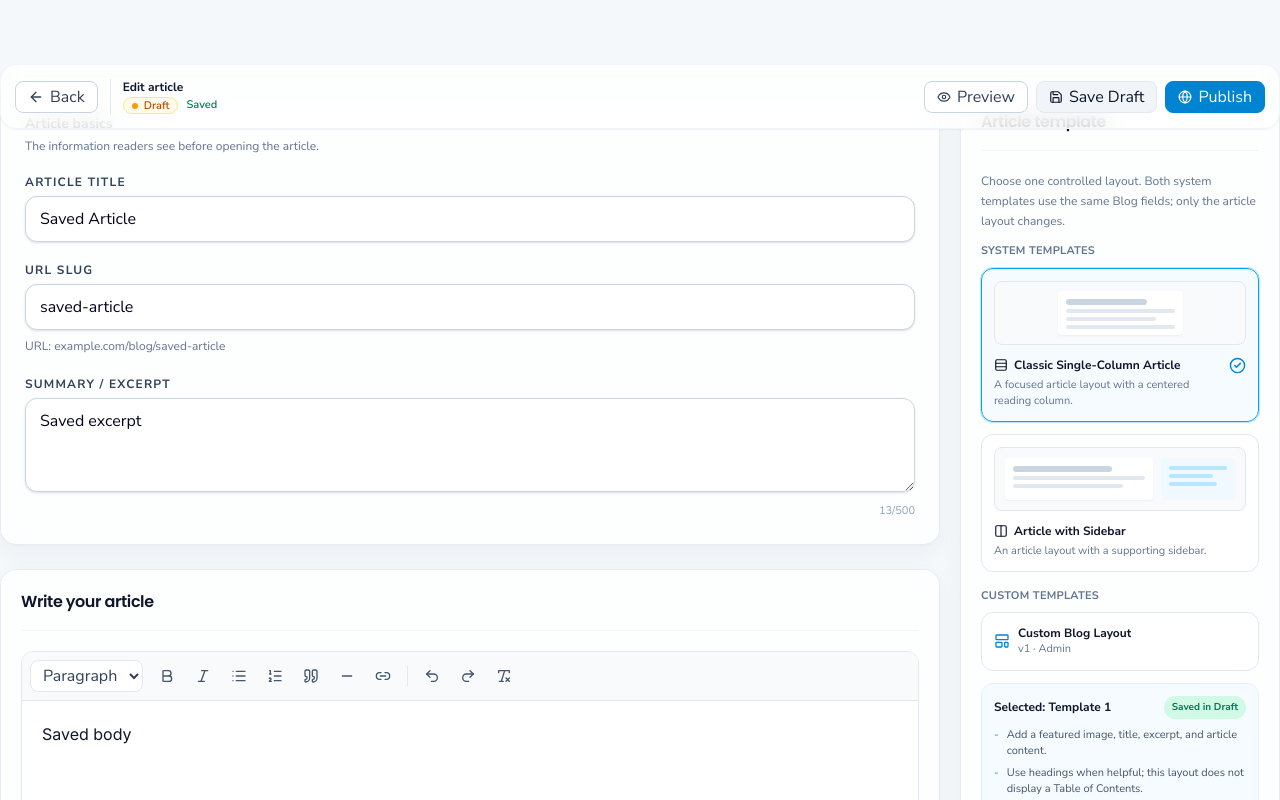
Scenario: BlogForm template instructions and persistence confirmation › sends Template 2 and confirms it was saved in the returned Draft
Click the radio button labelled "Article with Sidebar". click: click(1120, 502)
box: [981,434,1259,572]
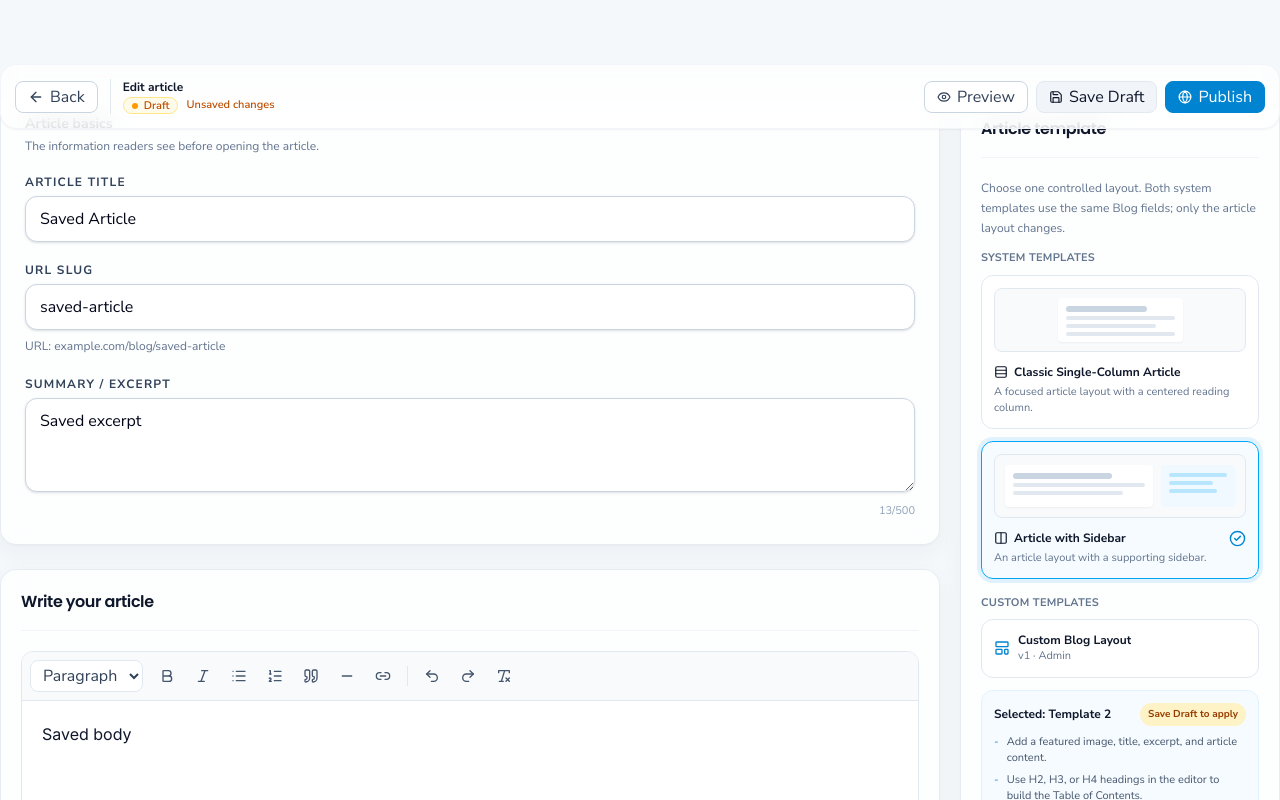
Expected: the text "Save Draft to apply" is shown, [1140,702,1246,726]
Click the button "Save Draft". click: click(1097, 96)
box: [1036,80,1157,112]
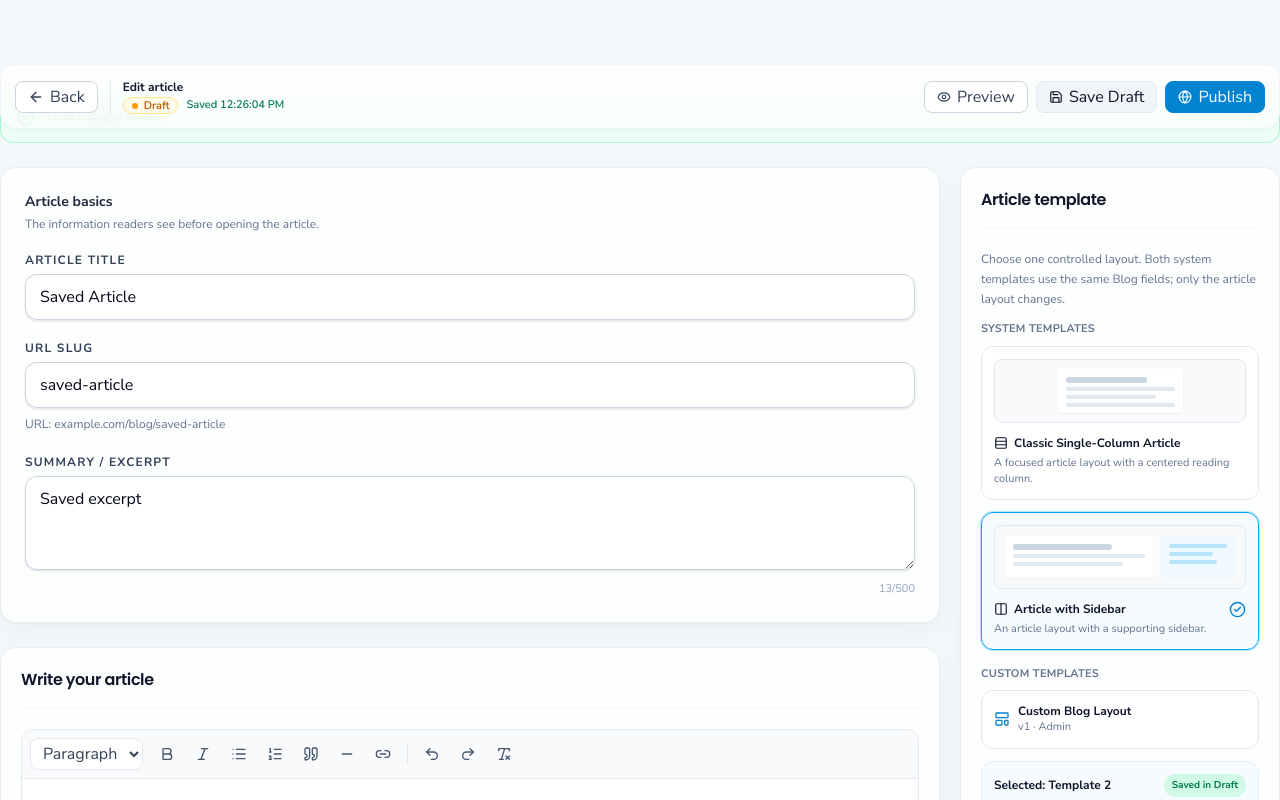
Expected: the text "Saved in Draft" is shown, [1164,774,1246,796]
